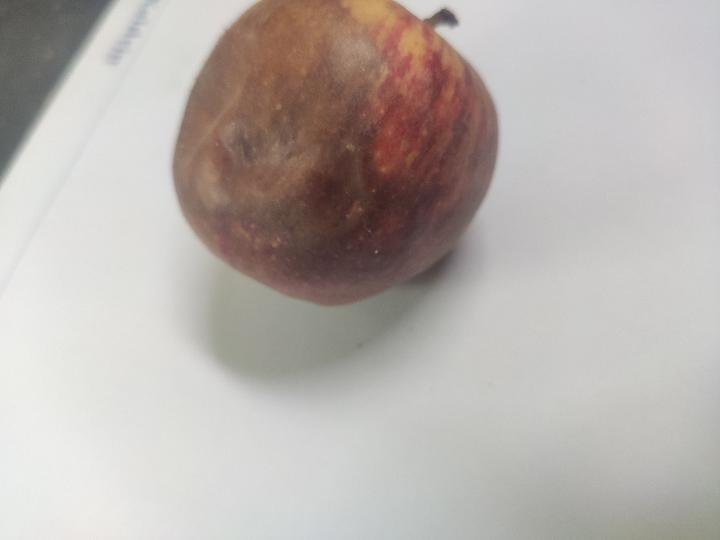apple: (173, 0, 498, 305)
rot_mold_decay: (173, 0, 475, 305)
